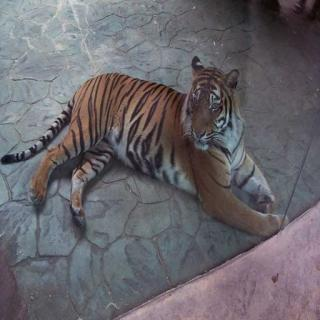Tiger: (0, 50, 298, 238)
